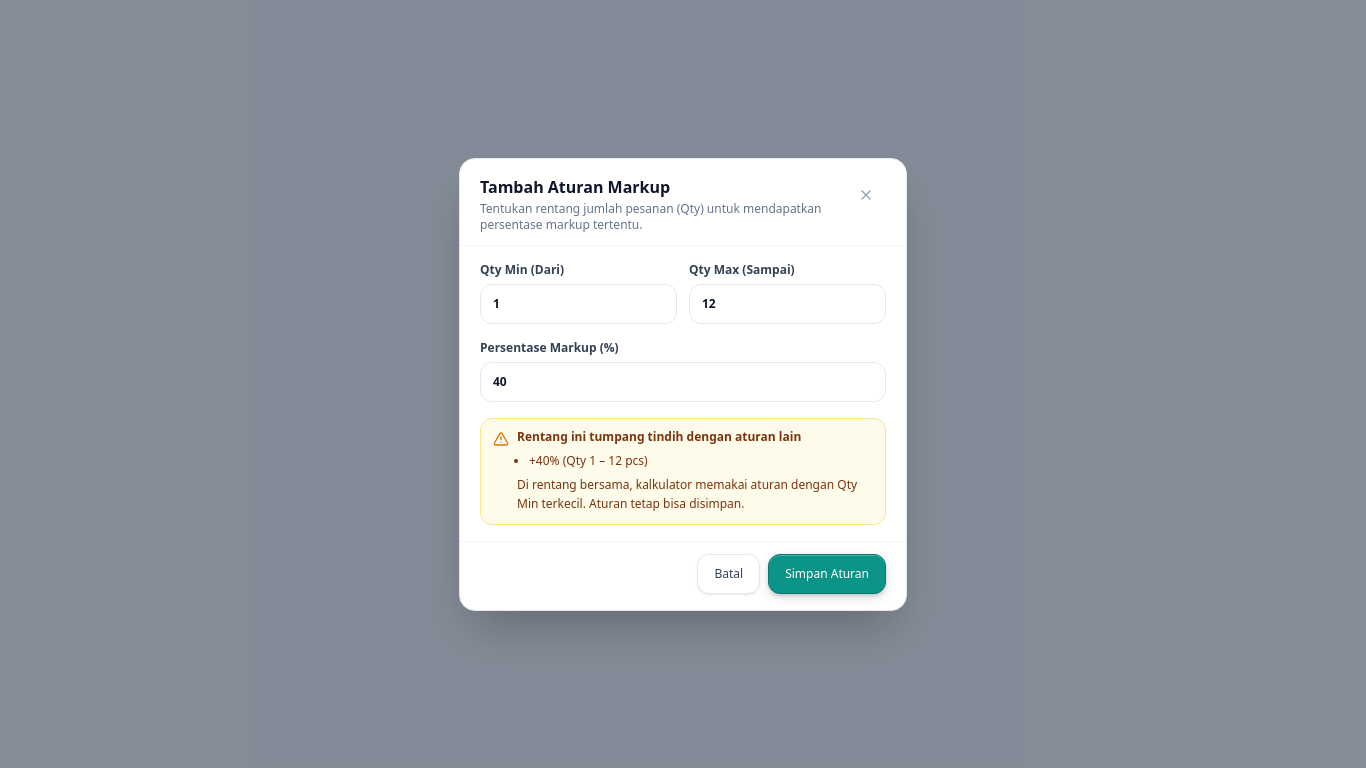
MarkupDialog › persentase kosong ditolak, bukan dianggap 0
Clear the number field labelled "Persentase Markup (%)" at (683, 382), box [480,362,886,402]
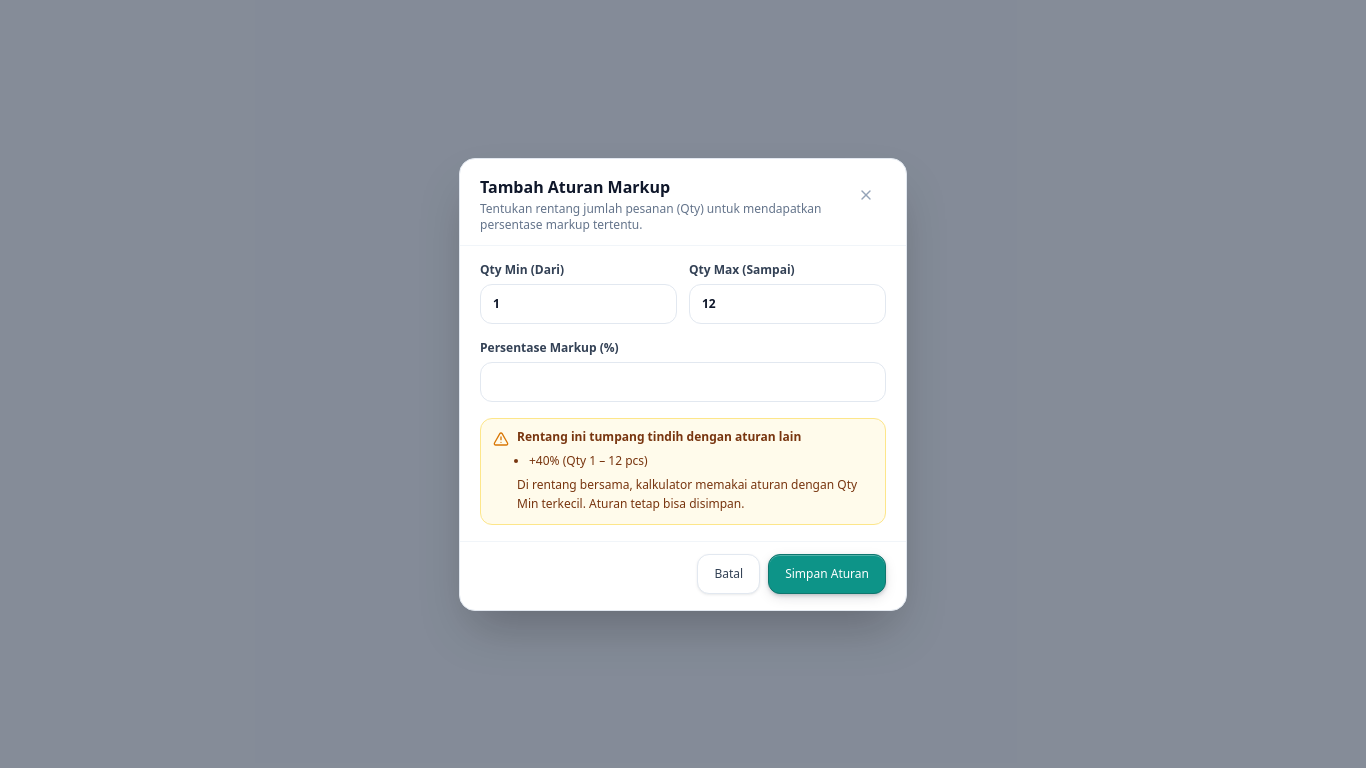
Click the button "Simpan Aturan" at (827, 574), box [768,554,886,594]
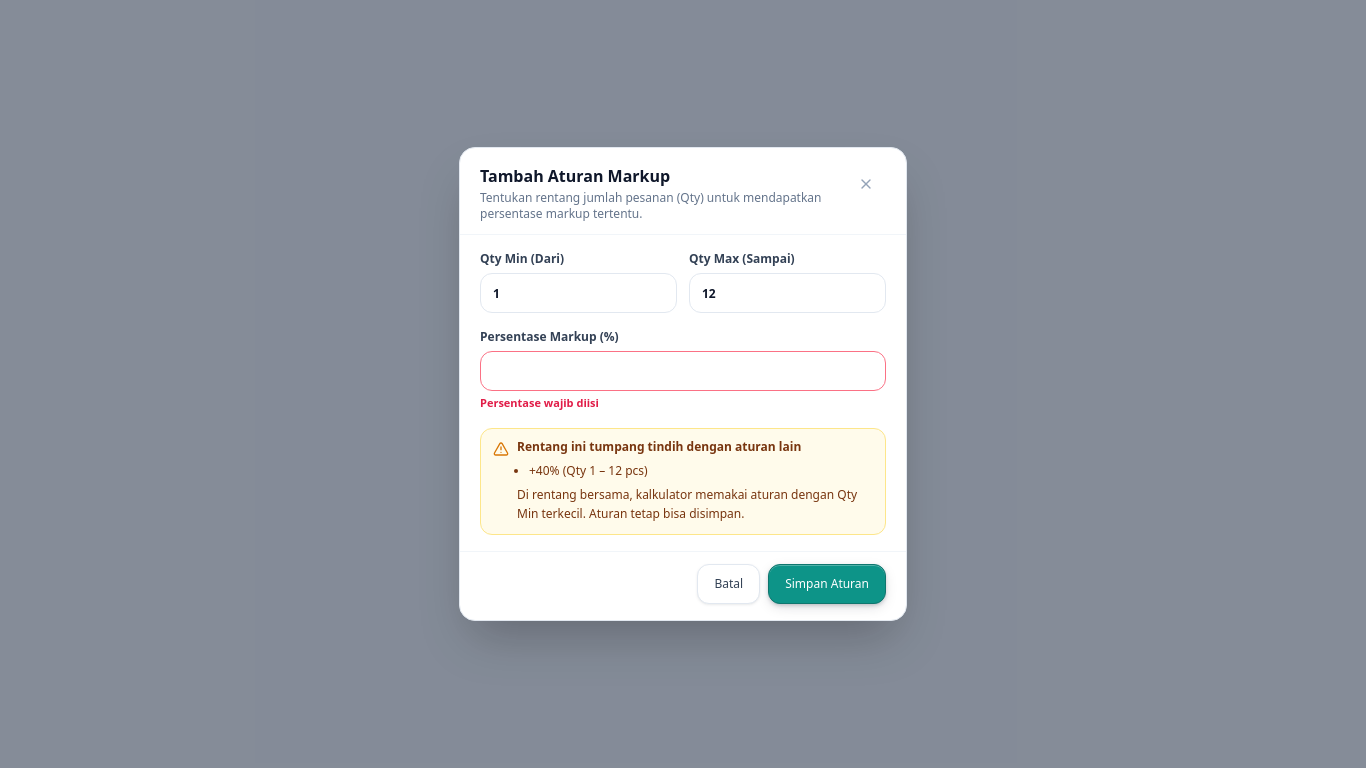
Expected: the text "Persentase wajib diisi" is shown, [480,395,599,410]
